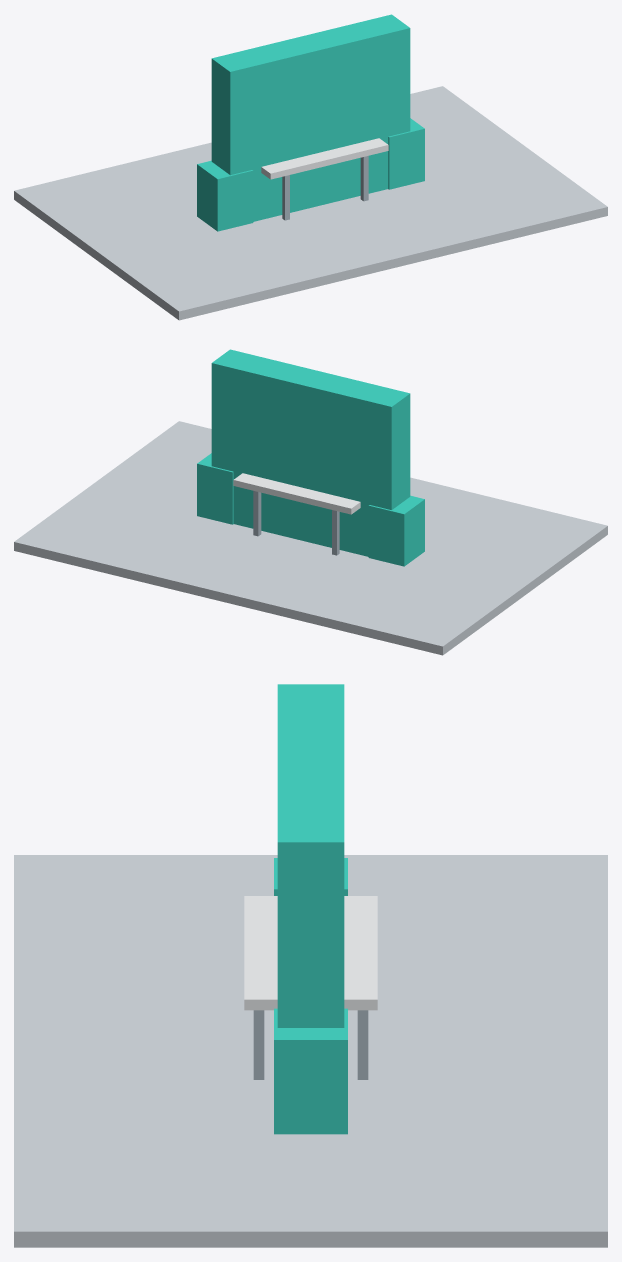
3 views of the same model, one above another, from view 1: azimuth 30°, elevation 25°; view 2: azimuth 150°, elevation 25°; view 3: azimuth 270°, elevation 25° (orthographic). The views are drawn at different scales.
Visible parts, largest first — view 1: Exhibition Booth Concept; view 2: Exhibition Booth Concept; view 3: Exhibition Booth Concept.
Part boxes in pixels (x1,y1,x2,y2): Exhibition Booth Concept: [14, 14, 607, 320]; Exhibition Booth Concept: [14, 349, 607, 655]; Exhibition Booth Concept: [14, 684, 607, 1247].
Size of the model in its own units: 6 by 2.2 by 4.
